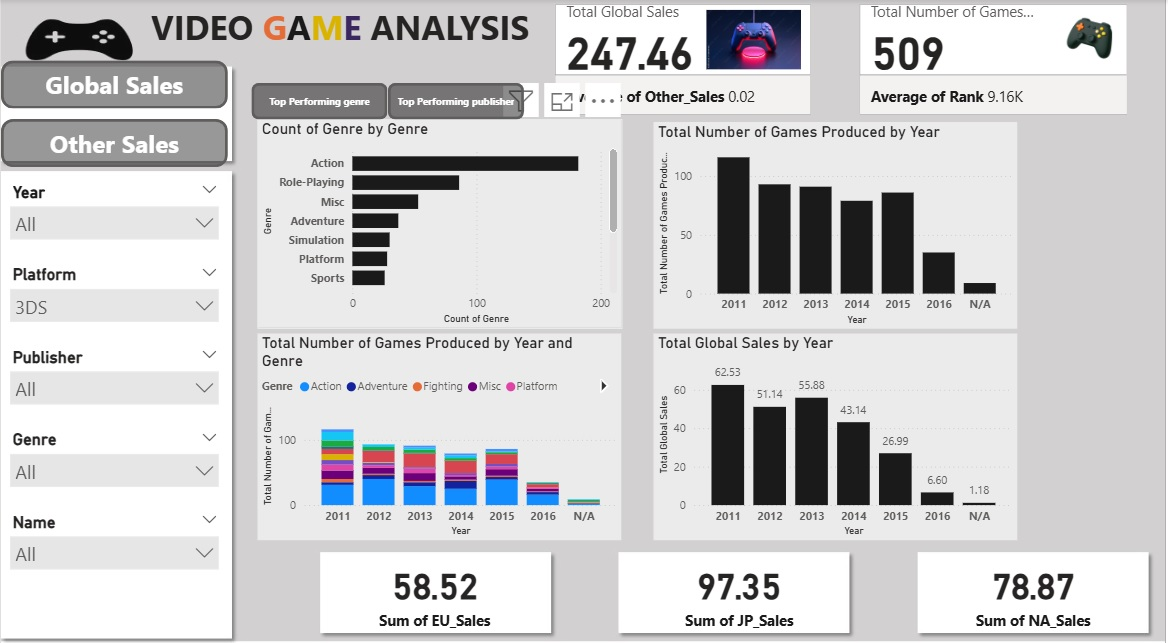

Layout of this report page (visuals, bound fields, positions):
{"tool":"powerbi","page":{"name":"Other Sales","canvas":[1280,720],"ordinal":1},"visuals":[{"type":"textbox","box":[160.6,0,495.1,68],"z":0},{"type":"cardVisual","fields":{"Data":["VideoGameSales.Total Global Sales"]},"box":[604.2,0,292.6,132.6],"z":1000},{"type":"cardVisual","fields":{"Data":["VideoGameSales.Total Number of Games Produced"]},"box":[938.9,0,305.3,132.6],"z":2000},{"type":"card","fields":{"Values":["Sum(VideoGameSales.EU_Sales)"]},"box":[347.7,608.5,257,88.8],"z":3000},{"type":"card","fields":{"Values":["Sum(VideoGameSales.JP_Sales)"]},"box":[682.2,608.5,257,88.8],"z":4000},{"type":"card","fields":{"Values":["Sum(VideoGameSales.NA_Sales)"]},"box":[1005.4,608.5,257,88.8],"z":5000},{"type":"slicer","fields":{"Values":["VideoGameSales.Year"]},"box":[0,196.5,249.5,71.8],"z":6000},{"type":"slicer","fields":{"Values":["VideoGameSales.Platform"]},"box":[0,287.2,249.5,71.8],"z":7000},{"type":"slicer","fields":{"Values":["VideoGameSales.Publisher"]},"box":[0,378,249.5,71.8],"z":8000},{"type":"slicer","fields":{"Values":["VideoGameSales.Genre"]},"box":[0,468.7,249.5,71.8],"z":9000},{"type":"slicer","fields":{"Values":["VideoGameSales.Name"]},"box":[0,559.4,249.5,71.8],"z":10000},{"type":"actionButton","box":[0,68,249.5,52.9],"z":11000},{"type":"actionButton","box":[0,132.3,249.5,52.9],"z":12000},{"type":"barChart","fields":{"Category":["VideoGameSales.Genre"],"Y":["CountNonNull(VideoGameSales.Genre)"]},"box":[282.1,132.6,400,229.5],"z":13000},{"type":"actionButton","box":[275.8,92.6,149.5,40],"z":14000},{"type":"actionButton","box":[425.3,92.6,149.5,40],"z":15000},{"type":"clusteredColumnChart","fields":{"Category":["VideoGameSales.Year"],"Y":["VideoGameSales.Total Number of Games Produced"]},"box":[717.9,134.7,400,227.4],"z":17000},{"type":"lineStackedColumnComboChart","fields":{"Category":["VideoGameSales.Year"],"Y":["VideoGameSales.Total Number of Games Produced"],"Series":["VideoGameSales.Genre"]},"box":[282.1,368.4,400,227.4],"z":18000},{"type":"clusteredColumnChart","fields":{"Category":["VideoGameSales.Year"],"Y":["VideoGameSales.Total Global Sales"]},"box":[717.9,368.4,400,227.4],"z":19000}]}

Visuals, with their boxes in screenshot pixels (x1, y1, x2, y2), scaled from the page's 1280x720 canvas onto the 1168x643 screenshot:
textbox: 147,0,598,61
cardVisual - VideoGameSales.Total Global Sales: 551,0,818,118
cardVisual - VideoGameSales.Total Number of Games Produced: 857,0,1135,118
card - Sum(VideoGameSales.EU_Sales): 317,543,552,623
card - Sum(VideoGameSales.JP_Sales): 623,543,857,623
card - Sum(VideoGameSales.NA_Sales): 917,543,1152,623
slicer - VideoGameSales.Year: 0,175,228,240
slicer - VideoGameSales.Platform: 0,256,228,321
slicer - VideoGameSales.Publisher: 0,338,228,402
slicer - VideoGameSales.Genre: 0,419,228,483
slicer - VideoGameSales.Name: 0,500,228,564
actionButton: 0,61,228,108
actionButton: 0,118,228,165
barChart - VideoGameSales.Genre x CountNonNull(VideoGameSales.Genre): 257,118,622,323
actionButton: 252,83,388,118
actionButton: 388,83,525,118
clusteredColumnChart - VideoGameSales.Year x VideoGameSales.Total Number of Games Produced: 655,120,1020,323
lineStackedColumnComboChart - VideoGameSales.Year x VideoGameSales.Total Number of Games Produced: 257,329,622,532
clusteredColumnChart - VideoGameSales.Year x VideoGameSales.Total Global Sales: 655,329,1020,532
